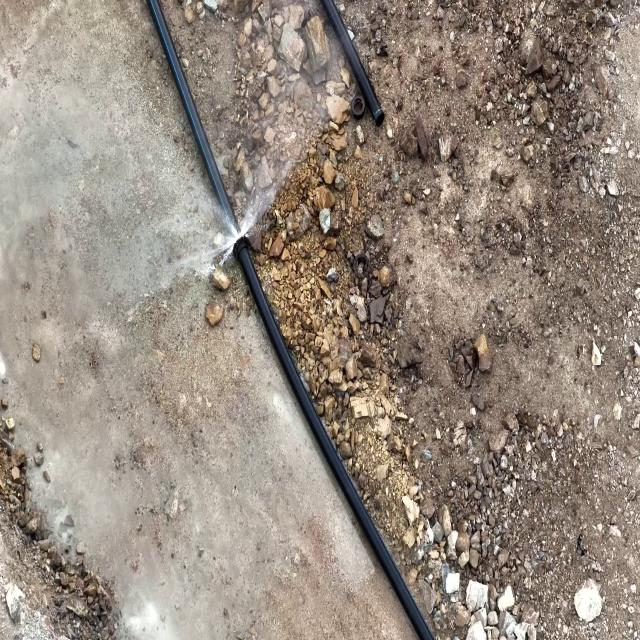leak: (163, 139, 309, 285)
